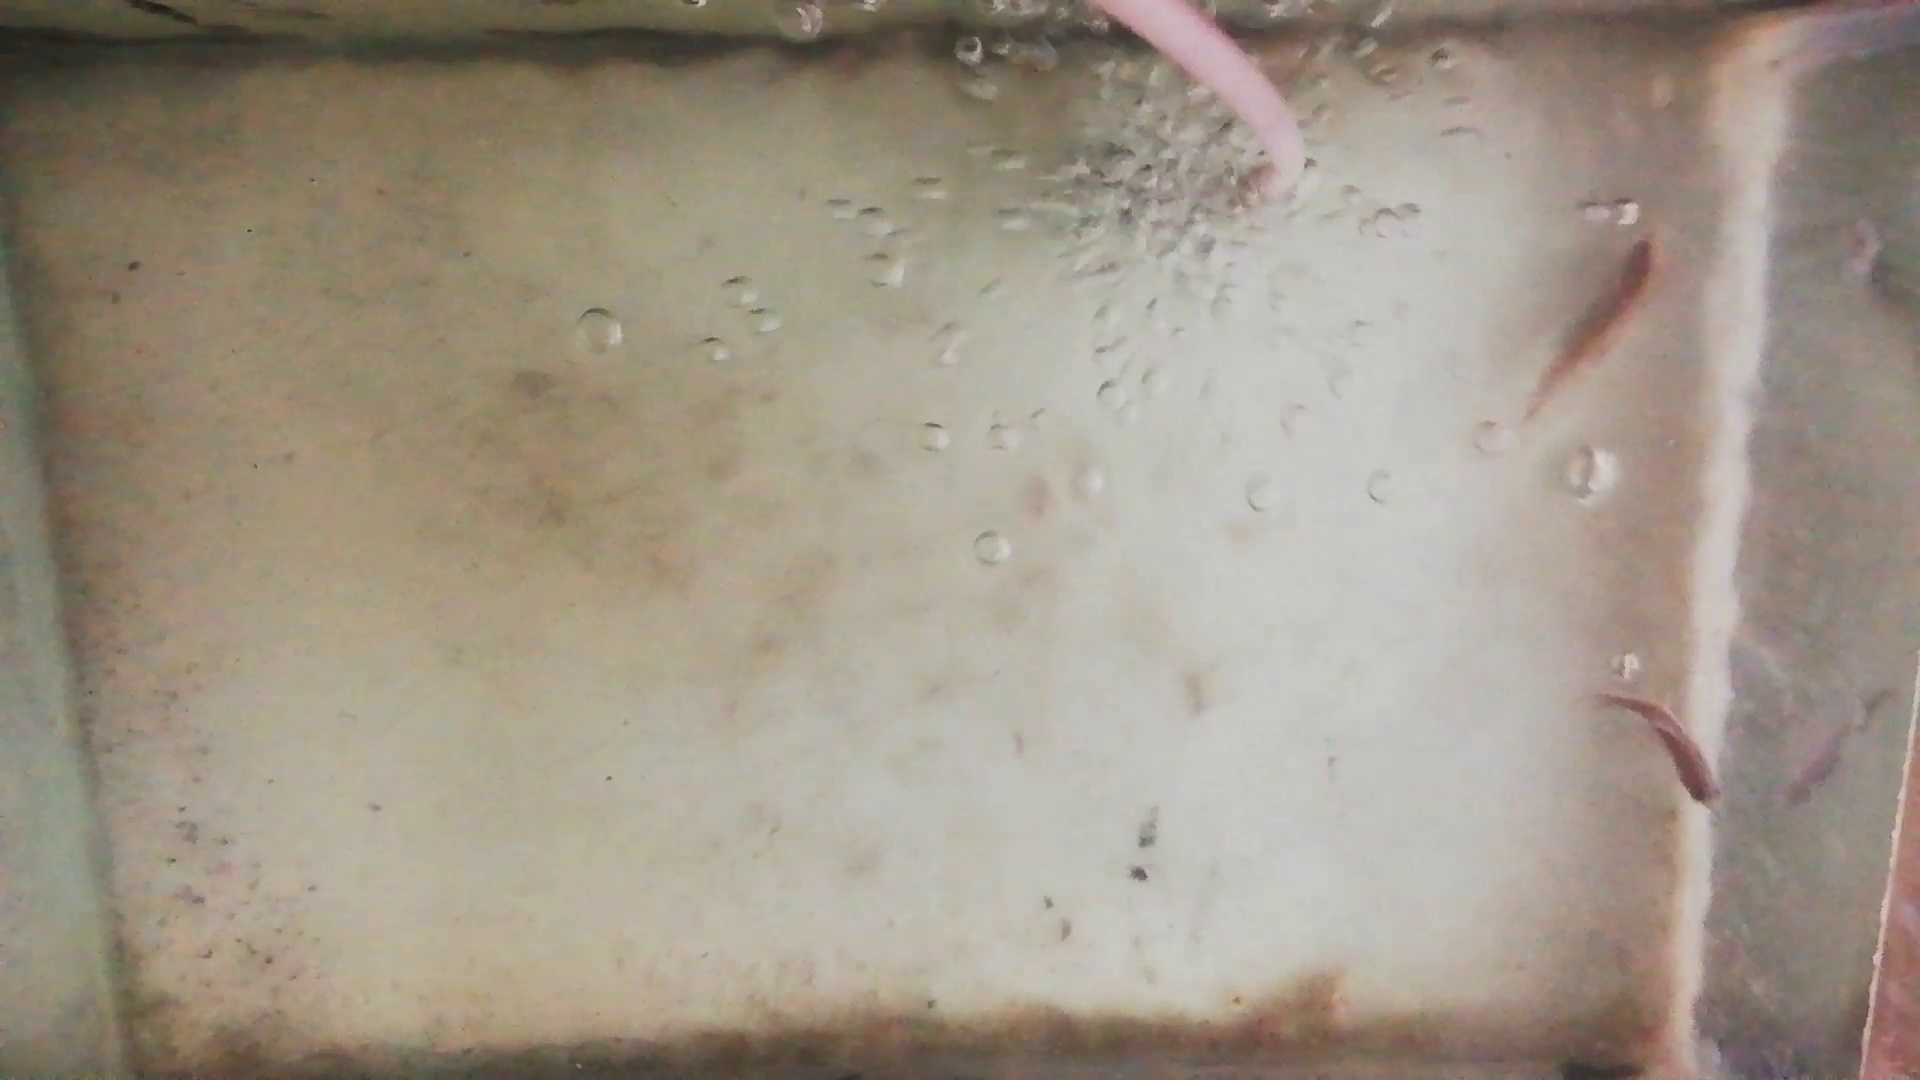fish: (1526, 233, 1660, 415), (1596, 694, 1720, 807)
